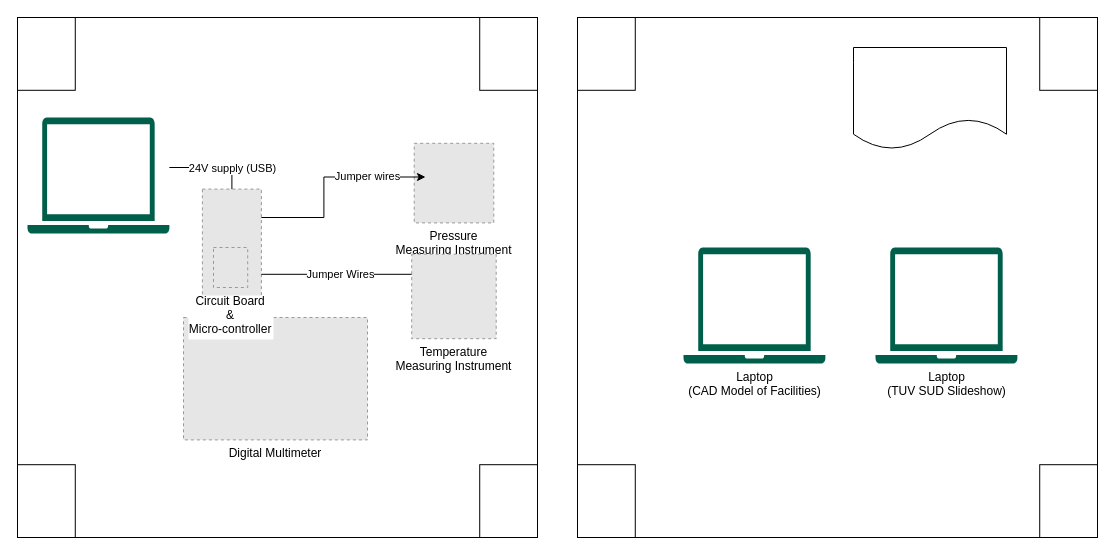
Image size: 1115x555. Some labels were removed from this diagram. Grey dashed boxes stand in for pictures. The shapes that lost their labels are listed below. From the top down, each one's box as (x1, y1, x2, y2) in pixels, then its label:
(852, 46, 1006, 150): Technical Drawings
(27, 117, 169, 233): Laptop
